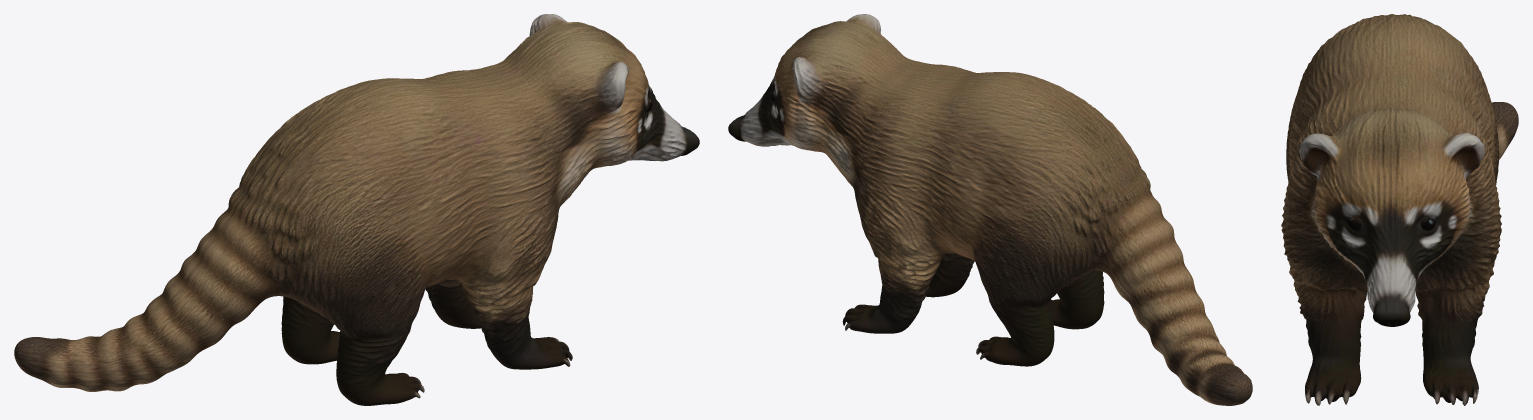
File: quati.fbx
3 views of the same model, side by side, from view 1: azimuth 30°, elevation 25°; view 2: azimuth 150°, elevation 25°; view 3: azimuth 270°, elevation 25° (orthographic). The views are drawn at different scales.
Visible parts, largest first — view 1: tripo_node_8b29b902; view 2: tripo_node_8b29b902; view 3: tripo_node_8b29b902.
Boxes of the visible parts, x1=… form: tripo_node_8b29b902: x1=14, y1=14, x2=699, y2=405; tripo_node_8b29b902: x1=728, y1=14, x2=1252, y2=405; tripo_node_8b29b902: x1=1281, y1=14, x2=1518, y2=405.
Bounding box in the file's own units: 0.9997 × 0.4534 × 0.3139.
1 material, 1 textured.
